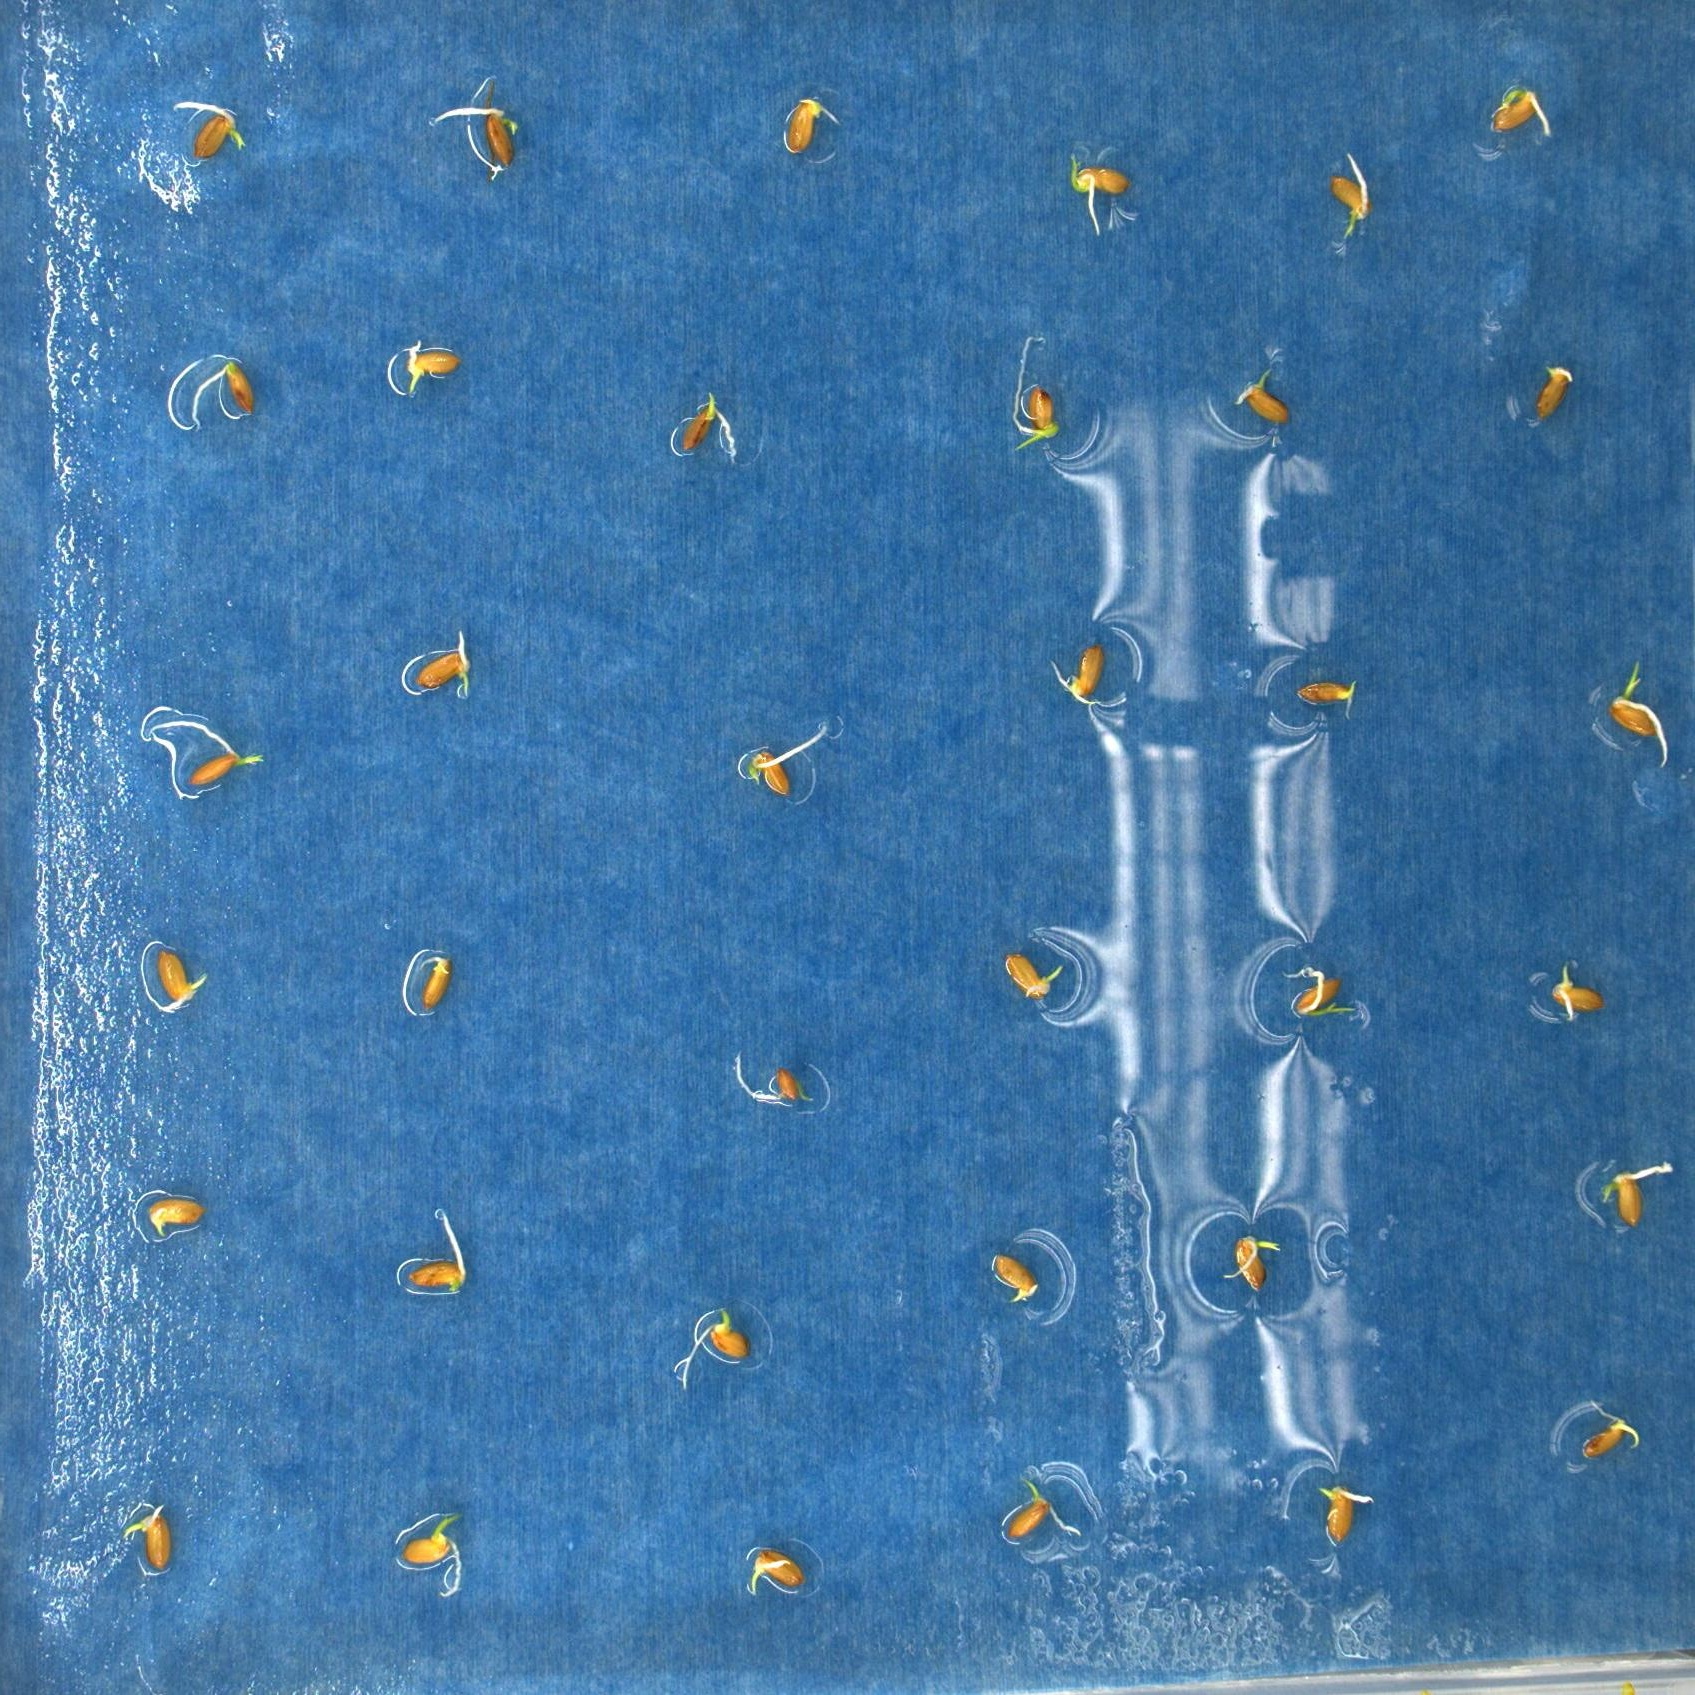not sprout: (432, 78, 522, 182), (404, 1212, 470, 1299), (742, 726, 826, 795), (135, 931, 206, 1007), (192, 351, 258, 432), (1048, 646, 1125, 712), (731, 1049, 813, 1108), (674, 394, 747, 456), (400, 335, 466, 400), (782, 93, 837, 157), (1580, 1402, 1641, 1458), (1530, 357, 1579, 424), (1004, 944, 1066, 993), (416, 948, 459, 1014), (1237, 369, 1291, 421), (987, 1253, 1035, 1302), (1301, 677, 1360, 716), (151, 1197, 206, 1236)
sprout: (149, 722, 261, 792), (1007, 338, 1062, 459), (1605, 663, 1672, 757), (678, 1305, 753, 1386), (1593, 1161, 1678, 1231), (1069, 146, 1132, 237), (397, 1513, 469, 1589), (171, 95, 253, 157), (1004, 1475, 1076, 1544), (1285, 959, 1361, 1018), (1318, 1478, 1378, 1546), (418, 630, 477, 694), (1551, 955, 1607, 1021), (1330, 152, 1372, 239), (1492, 84, 1555, 140), (1218, 1237, 1287, 1288), (123, 1506, 174, 1574), (748, 1551, 807, 1599)
